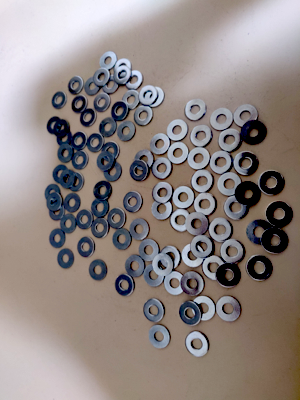circle: (215, 294, 243, 324), (246, 255, 274, 283), (261, 227, 288, 255), (246, 219, 273, 246), (215, 262, 241, 289), (266, 201, 293, 227), (259, 170, 285, 196), (191, 295, 216, 322), (235, 181, 261, 206), (242, 121, 268, 146), (220, 239, 245, 264), (202, 255, 227, 280), (185, 332, 209, 358), (179, 301, 203, 327), (233, 152, 260, 175), (219, 128, 243, 153), (209, 217, 233, 242), (225, 194, 248, 220), (233, 105, 259, 128), (218, 172, 242, 196), (143, 298, 166, 323), (185, 213, 210, 236), (149, 325, 171, 351), (190, 124, 213, 148), (191, 169, 214, 193), (152, 253, 175, 277), (159, 246, 182, 270), (182, 244, 205, 268), (210, 152, 235, 174), (195, 191, 217, 216), (211, 108, 234, 131), (188, 147, 211, 170), (143, 264, 166, 287), (170, 209, 193, 232), (191, 236, 214, 259), (164, 272, 186, 296), (139, 238, 161, 262), (167, 143, 192, 164), (181, 273, 204, 295), (152, 182, 174, 205), (150, 158, 173, 180), (149, 134, 172, 156), (185, 99, 207, 121), (173, 186, 194, 209), (151, 200, 174, 221), (166, 120, 188, 141), (125, 255, 146, 277), (107, 208, 127, 231), (88, 260, 108, 283), (115, 274, 135, 296), (134, 150, 154, 172), (123, 191, 142, 214), (76, 236, 95, 259), (112, 229, 132, 250), (145, 88, 166, 108), (123, 70, 144, 90), (56, 248, 75, 270), (97, 150, 116, 172), (67, 171, 86, 193), (130, 160, 148, 183), (103, 162, 123, 182), (134, 105, 153, 126), (139, 86, 158, 107), (118, 121, 136, 143), (93, 181, 113, 200), (130, 219, 148, 240), (60, 213, 78, 234), (114, 65, 132, 86), (64, 193, 82, 214), (103, 73, 120, 95), (114, 59, 133, 78), (75, 209, 93, 229), (122, 90, 140, 110), (99, 118, 117, 138), (72, 150, 90, 170), (84, 76, 102, 96), (79, 108, 97, 128), (49, 228, 66, 249), (49, 201, 66, 222), (99, 51, 117, 70), (57, 144, 75, 163), (52, 165, 70, 184), (92, 198, 109, 218), (87, 133, 104, 153), (71, 95, 88, 115), (59, 170, 76, 190), (47, 192, 64, 212), (94, 94, 111, 113), (56, 129, 73, 148), (44, 184, 61, 203), (54, 118, 70, 138), (71, 132, 88, 150), (112, 102, 128, 121), (94, 68, 110, 86), (47, 117, 63, 135), (52, 91, 67, 110), (68, 77, 83, 95)
